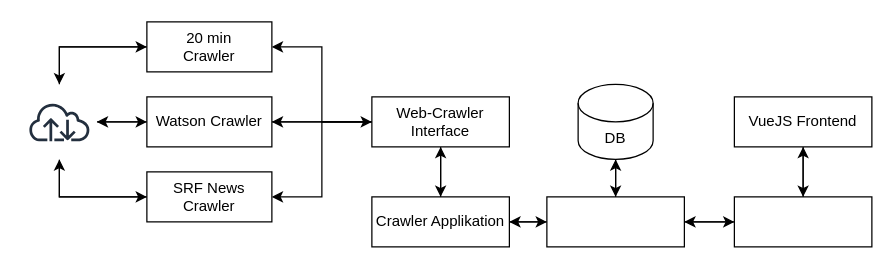
Image size: 894x269. Some labels were removed from this diagram. The shapes that lost their labels are listed below. From the top down, each one's centre as x and y in pixels, then its label:
At [59,121]: "Internet".
At [615,221]: "Database-Manager".
At [802,221]: "Flask Server".
